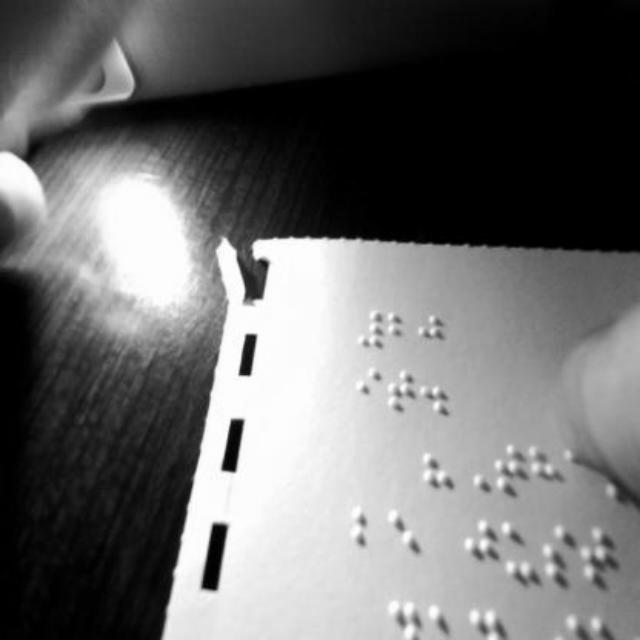braiile: (459, 516, 497, 592), (497, 516, 537, 584), (384, 503, 420, 573), (536, 522, 574, 588), (578, 522, 612, 594), (492, 434, 530, 498), (349, 503, 381, 569), (385, 362, 417, 426), (529, 441, 561, 499), (354, 365, 384, 423), (388, 306, 418, 358), (418, 309, 446, 359)
